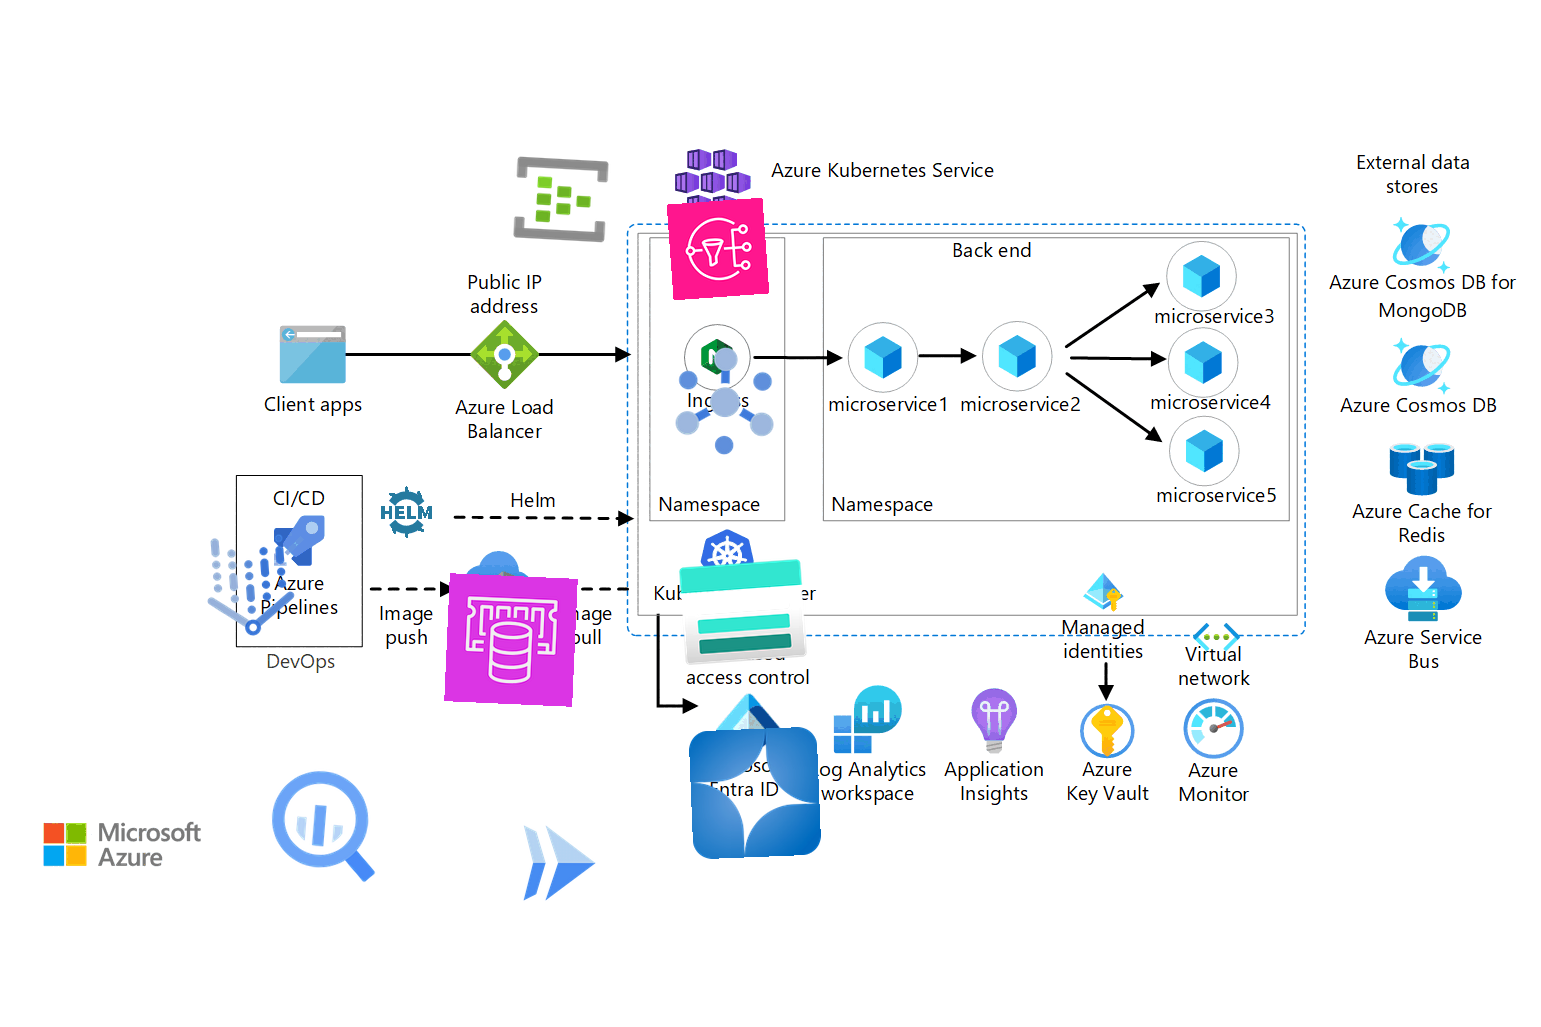aws_amazon_elasticache: (445, 573, 577, 707)
aws_amazon_simple_notification_service: (666, 197, 770, 301)
azure_event_hubs: (510, 148, 612, 250)
azure_openai: (687, 726, 821, 860)
azure_storage_accounts: (674, 543, 812, 681)
gcp_bigquery: (255, 756, 394, 894)
gcp_cloud_run: (509, 814, 607, 912)
gcp_pubsub: (659, 335, 791, 467)
gcp_vertex_ai: (181, 517, 319, 654)
